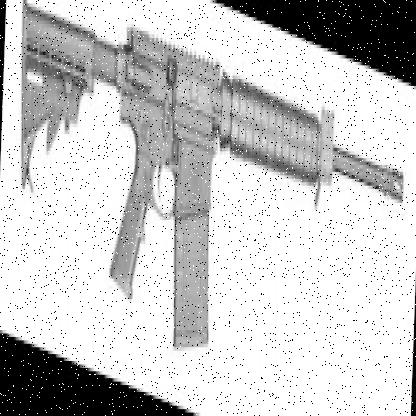rifle: (16, 0, 405, 416)
